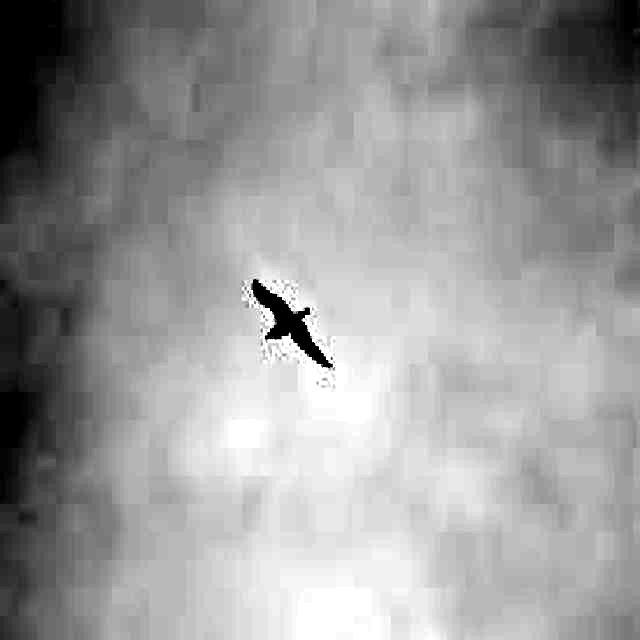bird: (247, 272, 338, 380)
